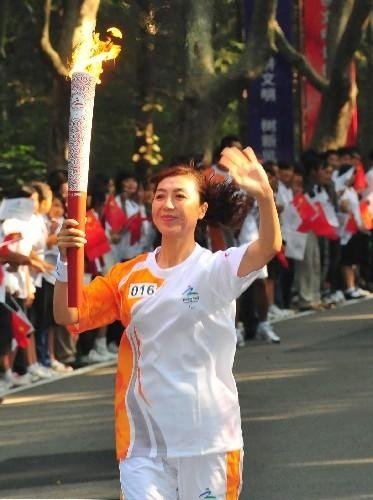fire: (52, 1, 125, 81), (220, 143, 273, 192), (134, 118, 162, 162)
